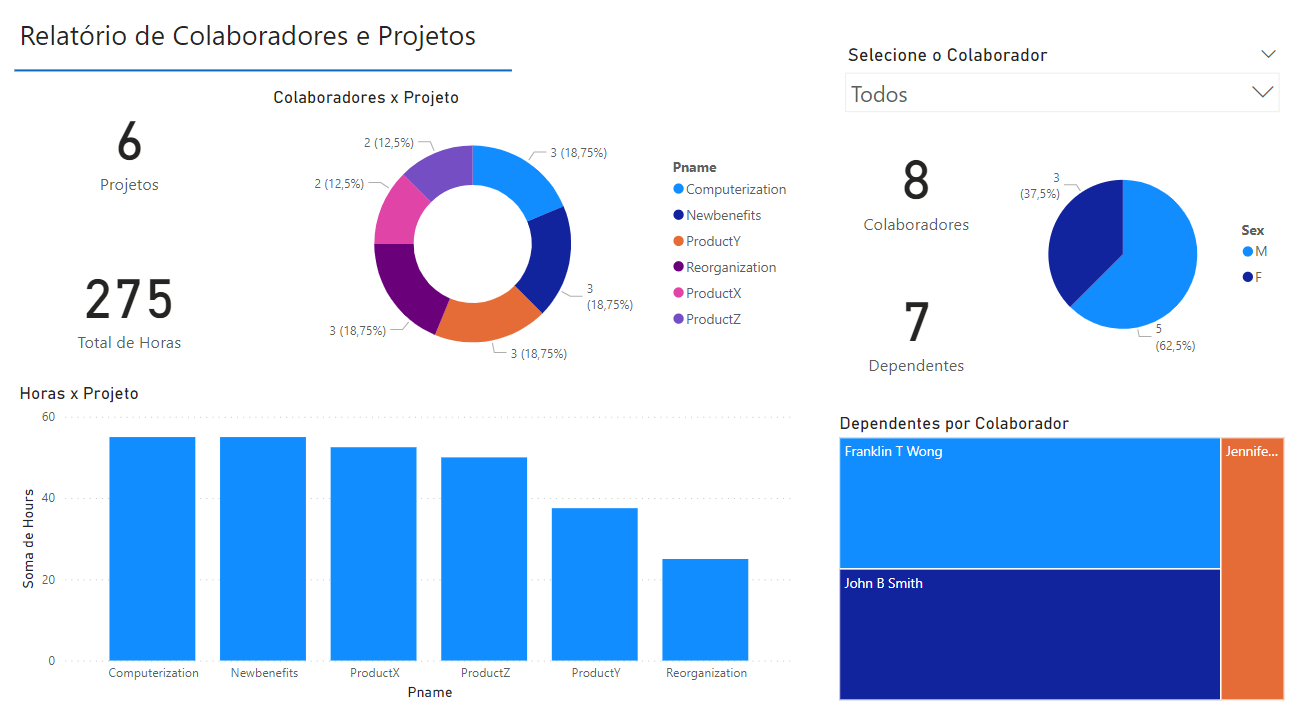

This screenshot's page, from the dashboard's own definition file:
{"tool":"powerbi","page":{"name":"Página 1","canvas":[1280,720],"ordinal":0},"visuals":[{"type":"treemap","title":"Dependentes por Colaborador","fields":{"Group":["azure_company employee.FullName"],"Values":["azure_company dependent.Essn"]},"box":[819.4,410.4,445.1,286.1],"z":0},{"type":"card","fields":{"Values":["azure_company employee.Ssn"]},"box":[819.4,131,160.4,112.3],"z":1000},{"type":"donutChart","title":"Colaboradores x Projeto","fields":{"Category":["azure_company works_on.azure_company.project.Pname"],"Y":["azure_company works_on.Essn"]},"box":[264.7,92.2,521.3,288.7],"z":2000},{"type":"textbox","box":[17.4,17.4,486.6,54.8],"z":3000},{"type":"card","fields":{"Values":["azure_company dependent.Dependent_name"]},"box":[819.4,268.7,160.4,112.3],"z":4000},{"type":"shape","box":[17.4,62.8,486.6,26.7],"z":5000},{"type":"pieChart","fields":{"Category":["employee_detailed.Sex"],"Y":["employee_detailed.Ssn"]},"box":[979.8,131,284.7,250],"z":6000},{"type":"clusteredColumnChart","title":"Horas x Projeto","fields":{"Category":["azure_company works_on.Pname"],"Y":["azure_company works_on.Hours"]},"box":[17.4,381,768.6,315.5],"z":7000},{"type":"card","fields":{"Values":["azure_company project.Dnum"]},"box":[44.1,92.2,171.1,113.6],"z":8000},{"type":"card","fields":{"Values":["azure_company works_on.Hours"]},"box":[44.1,245.9,171.1,113.6],"z":9000},{"type":"slicer","fields":{"Values":["azure_company employee.FullName"]},"box":[819.4,45.4,445.1,84.2],"z":11000}]}

Visuals, with their boxes in screenshot pixels (x1, y1, x2, y2), scaled from the page's 1280x720 canvas onto the 1302x723 screenshot:
"Dependentes por Colaborador" treemap: (833,412,1286,699)
card - azure_company employee.Ssn: (833,132,997,244)
"Colaboradores x Projeto" donutChart: (269,93,800,382)
textbox: (18,17,513,73)
card - azure_company dependent.Dependent_name: (833,270,997,383)
shape: (18,63,513,90)
pieChart - employee_detailed.Sex x employee_detailed.Ssn: (997,132,1286,383)
"Horas x Projeto" clusteredColumnChart: (18,383,800,699)
card - azure_company project.Dnum: (45,93,219,207)
card - azure_company works_on.Hours: (45,247,219,361)
slicer - azure_company employee.FullName: (833,46,1286,130)
